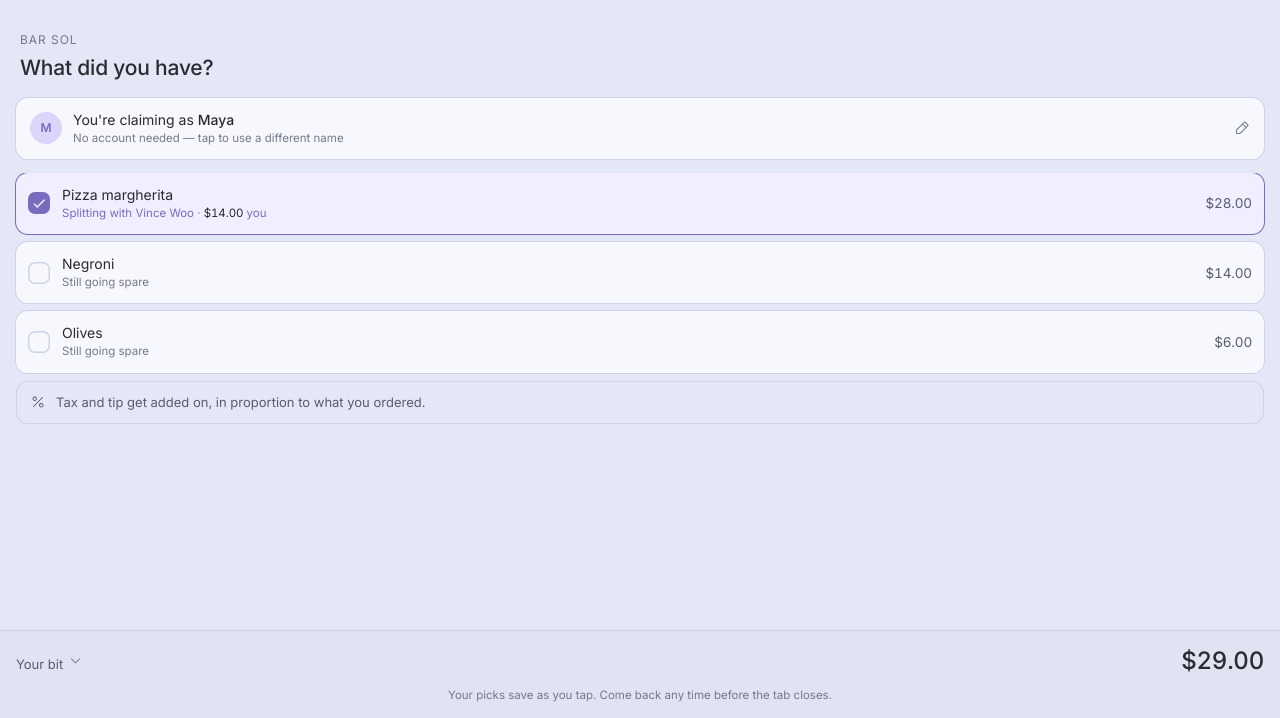
Test case: TabClaimPage running total › shows what the total is made of
Click the button "Your bit $29.00" at x=40, y=664, box [16, 645, 1264, 677]
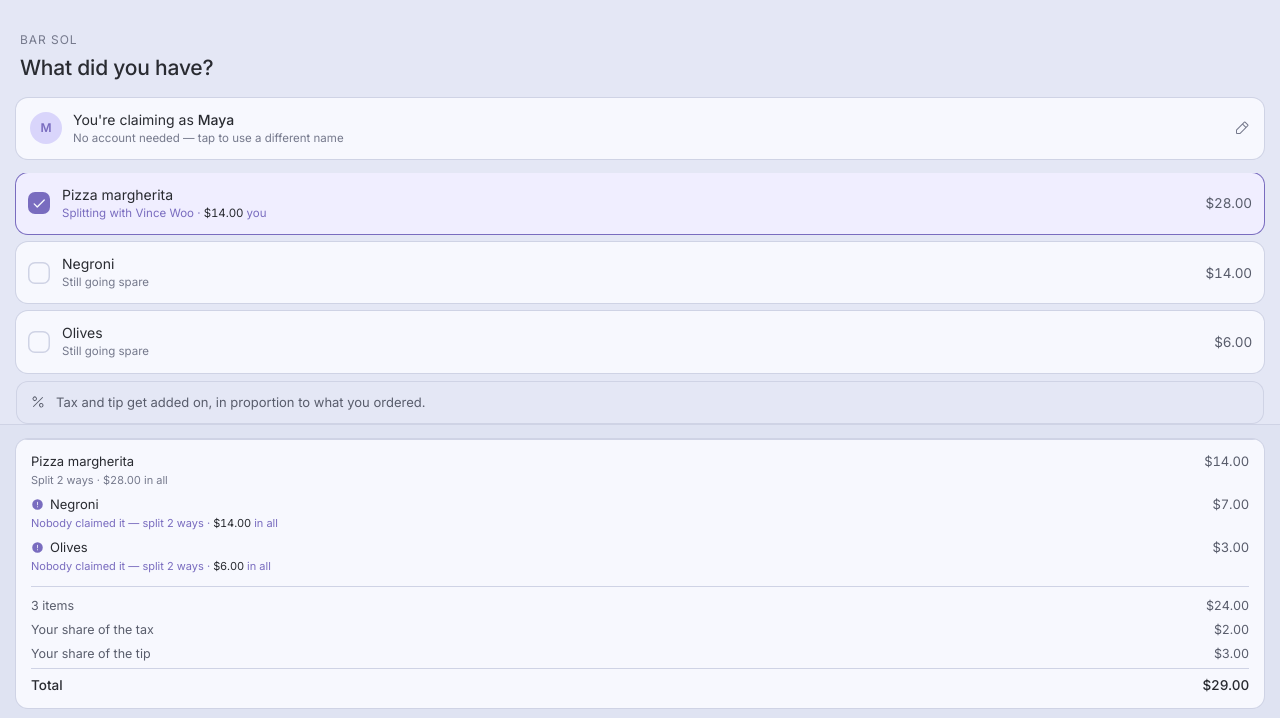
Now the text "Your share of the tax" is shown, box [31, 621, 154, 640]
Now the text "Your share of the tip" is shown, box [31, 644, 151, 663]
Now the text "Split 2 ways · $28.00 in all" is shown, box [31, 472, 168, 488]
